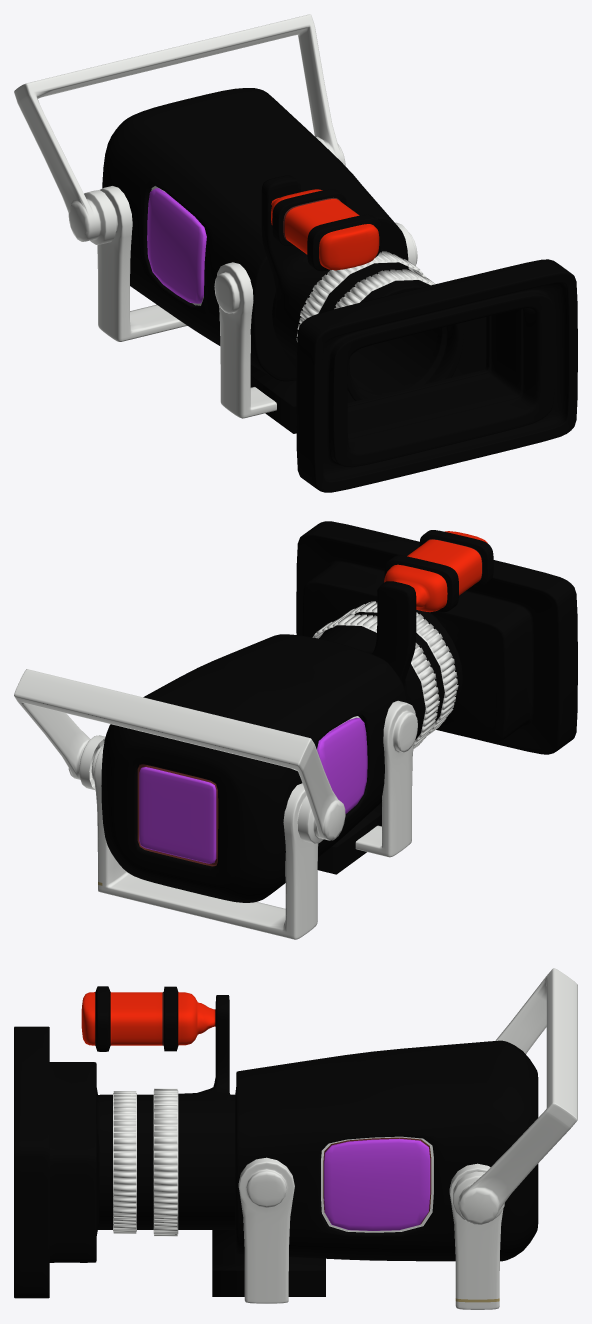
Rendered from Camera.glb.
3 views of the same model, one above another, from view 1: azimuth 30°, elevation 25°; view 2: azimuth 150°, elevation 25°; view 3: azimuth 270°, elevation 25° (orthographic). The views are drawn at different scales.
Parts seen in each view (by area): view 1: camera; view 2: camera; view 3: camera.
Part boxes in pixels (bbox=[...]): camera: bbox=[14, 14, 577, 492]; camera: bbox=[14, 521, 577, 939]; camera: bbox=[14, 968, 577, 1309].
Size of the model in its own units: 0.4134 by 0.3528 by 0.7273.
